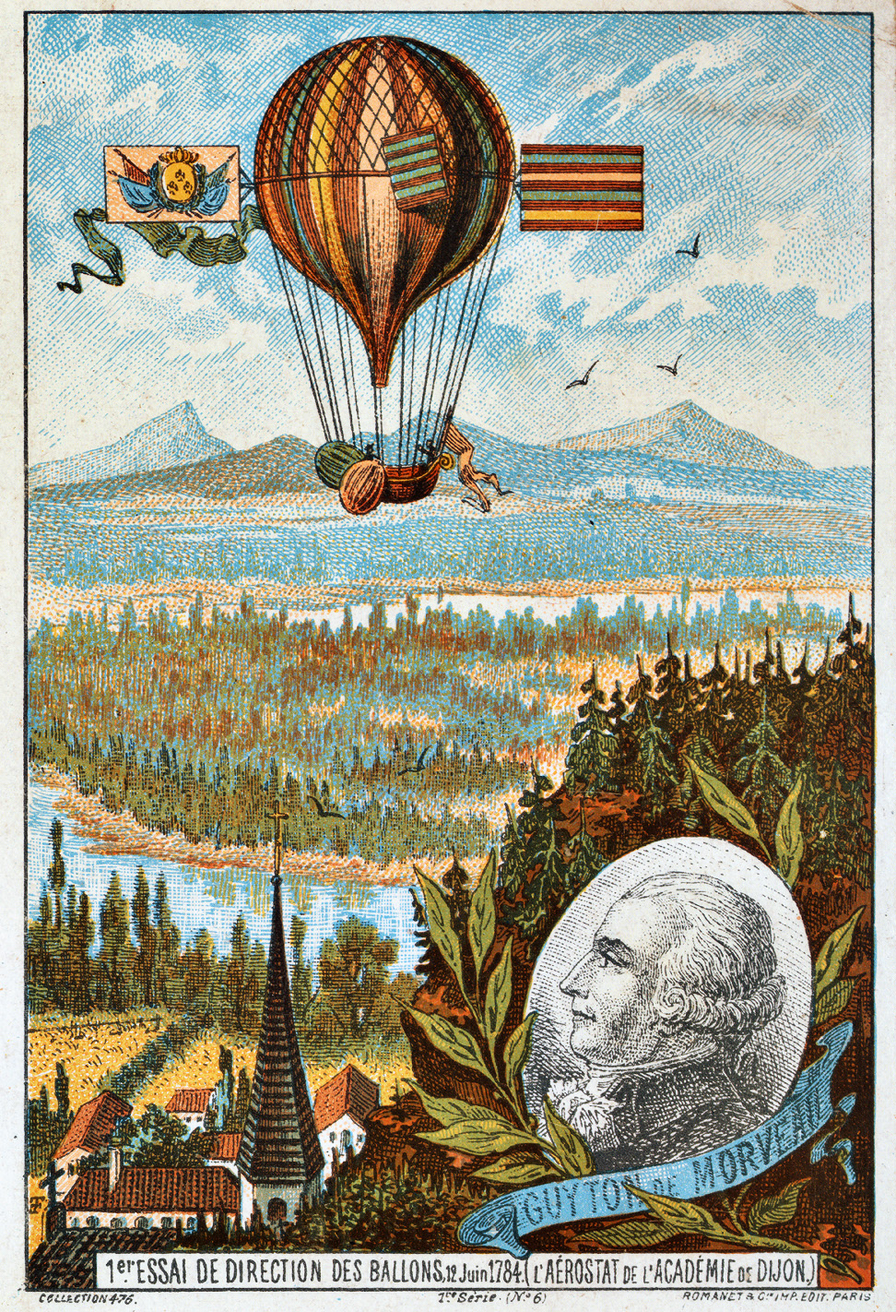balloon: (273, 55, 517, 516)
